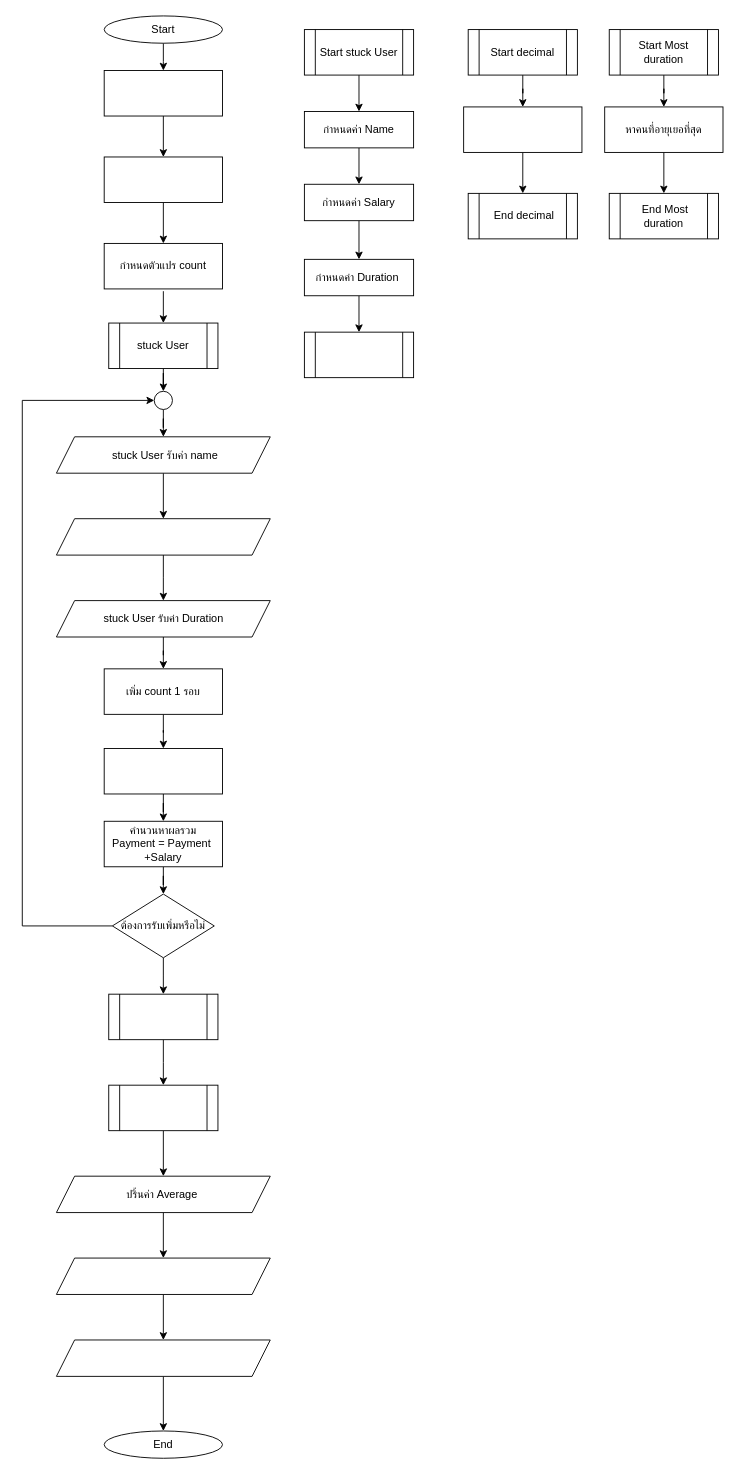
This 739x1474 diagram has some shape labels left out. Each missing label, with the centre of its shape:
decimal: (163,1016)
End stuck User: (358,354)
Most duration: (163,1107)
stuck User รับค่า Salary: (163,536)
กำหนดตัวแปร Average: (162,179)
กำหนดตัวแปร Payment: (162,93)
คำนวนหาเฉลี่ย Average = รอบ / Salary: (162,771)
ปริ้นค่า Payment: (163,1275)
ปริ้นชื่อ คนที่อายุมากที่สุด: (163,1357)
แปลงเลขเป็นแบบ decimal: (522,129)
